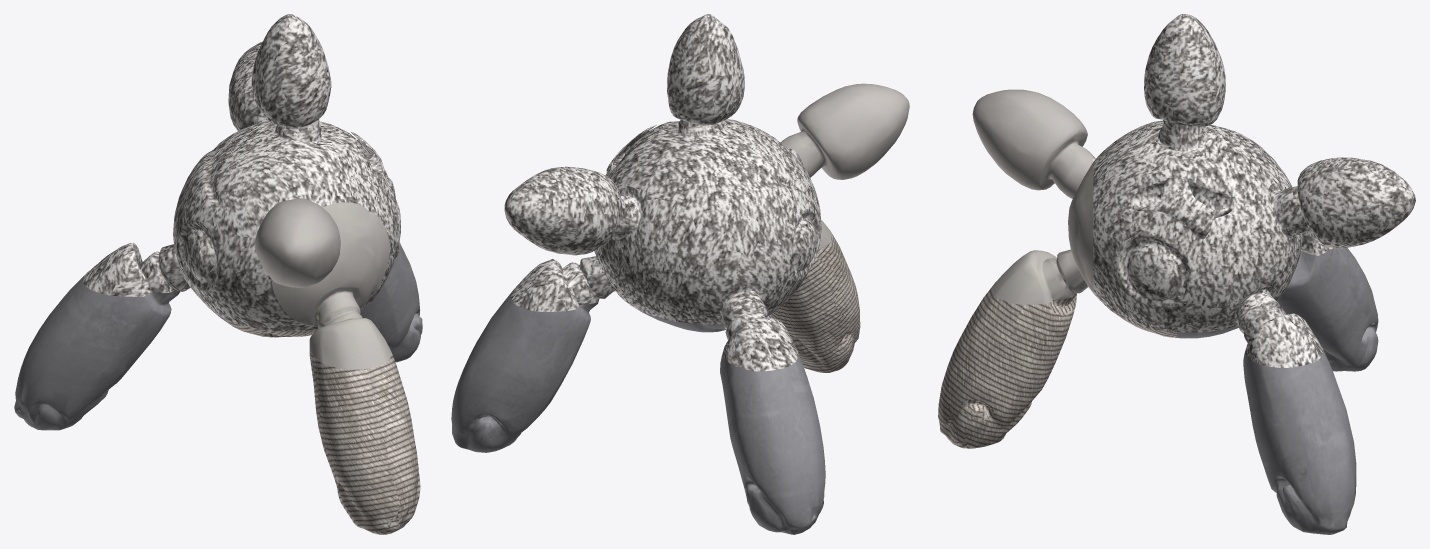
Rendered from 18-quad-all--wooden_robot_3d_model.glb.
3 renders of one model, left to right at view 1: azimuth 30°, elevation 25°; view 2: azimuth 150°, elevation 25°; view 3: azimuth 270°, elevation 25°, orthographic. The views are drawn at different scales.
Parts seen in each view (by area): view 1: body_mesh, feet_mesh, head_mesh, arms_mesh; view 2: body_mesh, feet_mesh, head_mesh, arms_mesh; view 3: body_mesh, feet_mesh, head_mesh, arms_mesh.
Part boxes in pixels (x1,y1,x2,y2): body_mesh: (83, 14, 400, 331); feet_mesh: (14, 242, 422, 430); head_mesh: (255, 198, 391, 369); arms_mesh: (219, 316, 420, 534); body_mesh: (504, 14, 821, 371); feet_mesh: (451, 291, 825, 534); head_mesh: (781, 83, 909, 249); arms_mesh: (768, 233, 860, 372); body_mesh: (1093, 14, 1415, 367); feet_mesh: (1177, 247, 1378, 534); head_mesh: (972, 89, 1093, 304); arms_mesh: (938, 282, 1176, 448).
Size of the model in its own units: 2.8 by 3 by 3.
Materials: 4 (4 with a texture image).
